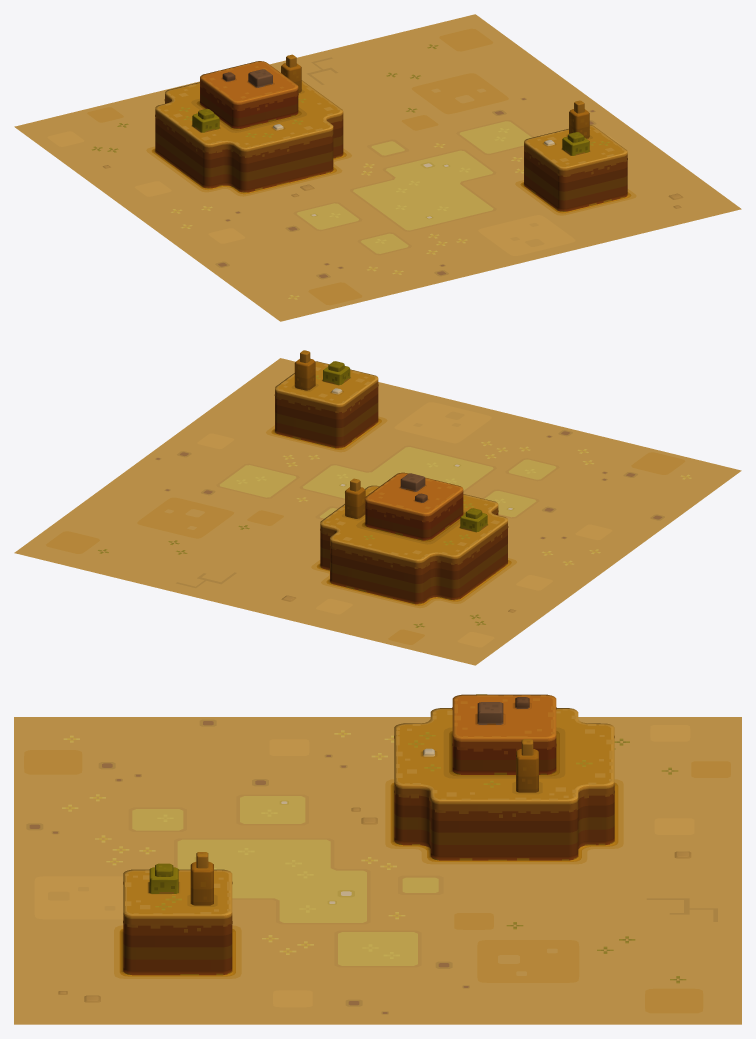
File: C_mountain1_04.fbx
The picture shows the model from 3 angles, top to bottom: view 1: azimuth 30°, elevation 25°; view 2: azimuth 150°, elevation 25°; view 3: azimuth 270°, elevation 25°; orthographic projection. The views are drawn at different scales.
Visible parts, largest first — view 1: C_mountain1_04; view 2: C_mountain1_04; view 3: C_mountain1_04.
Boxes of the visible parts, x1,y1,x2,y2 form: C_mountain1_04: [14, 14, 741, 321]; C_mountain1_04: [14, 350, 741, 665]; C_mountain1_04: [14, 694, 741, 1024].
Size of the model in its own units: 50 by 8.59 by 50.
